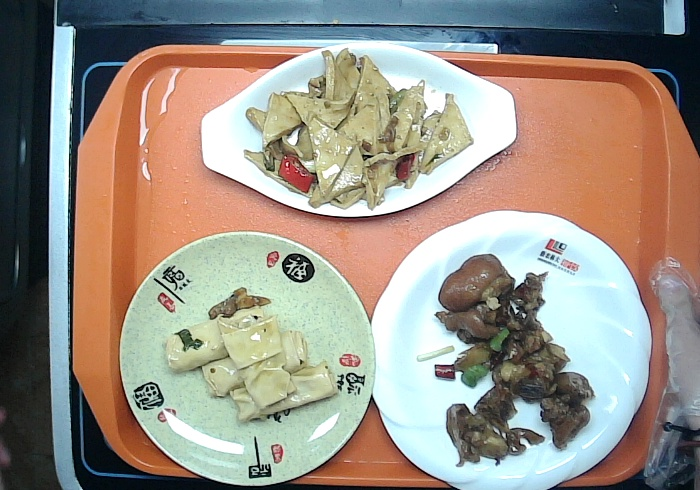NLDX-Bai_Zhe_Yuan_Pan: (368, 209, 652, 490)
NLDX-Fu_Zi_Yuan_Pan: (117, 229, 376, 486)
NLDX-Yu_Pan: (200, 42, 519, 218)
